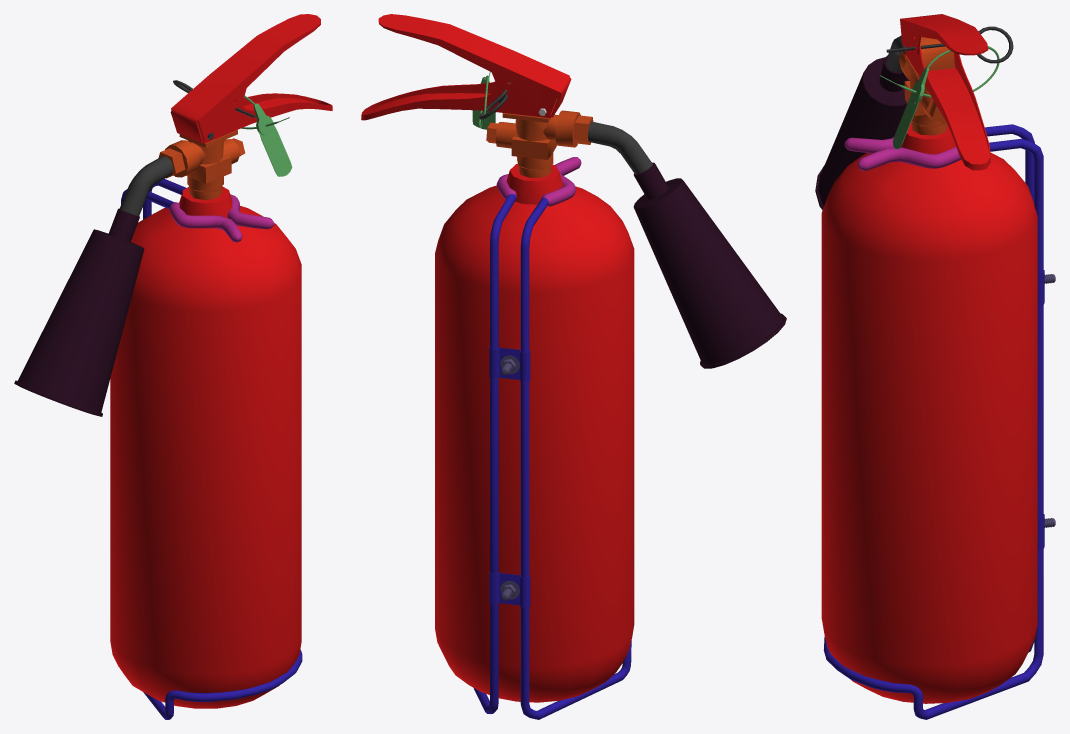
The picture shows the model from 3 angles, left to right: view 1: azimuth 30°, elevation 25°; view 2: azimuth 150°, elevation 25°; view 3: azimuth 270°, elevation 25°; orthographic projection. The views are drawn at different scales.
Parts seen in each view (by area): view 1: FE_1_LOD0, FE_1_wall_LOD0; view 2: FE_1_LOD0, FE_1_wall_LOD0; view 3: FE_1_LOD0, FE_1_wall_LOD0.
Boxes of the visible parts, box(x1,y1,x2,y2) form: FE_1_LOD0: box(14, 14, 332, 708); FE_1_wall_LOD0: box(121, 179, 302, 719); FE_1_LOD0: box(361, 14, 786, 702); FE_1_wall_LOD0: box(473, 157, 631, 719); FE_1_LOD0: box(815, 14, 1037, 703); FE_1_wall_LOD0: box(823, 124, 1055, 719).
Size of what is drawn, in the model's own units: 18.75 by 31.65 by 9.79.
